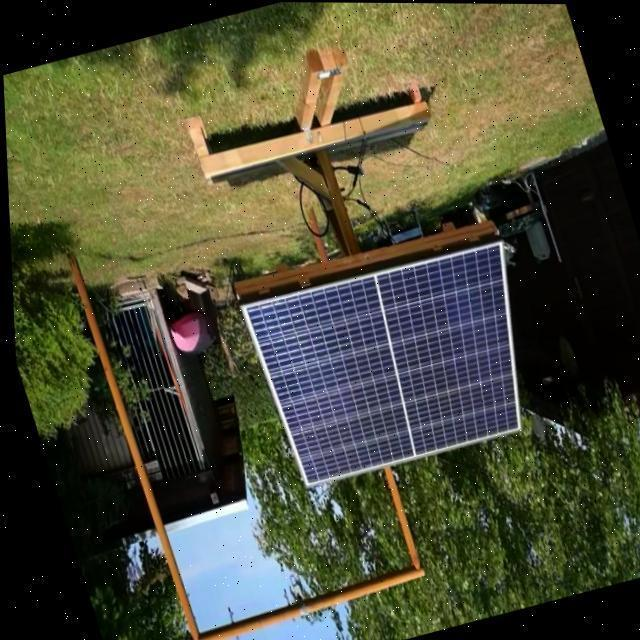Normal Solar Panel: (232, 230, 556, 492)
